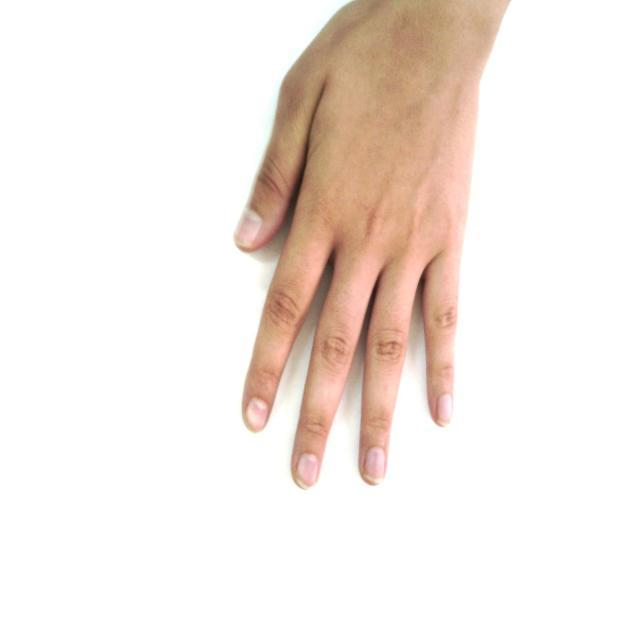Fingernail: (236, 210, 262, 245), (297, 454, 318, 487), (247, 399, 267, 430), (365, 448, 384, 480), (437, 394, 451, 423)
